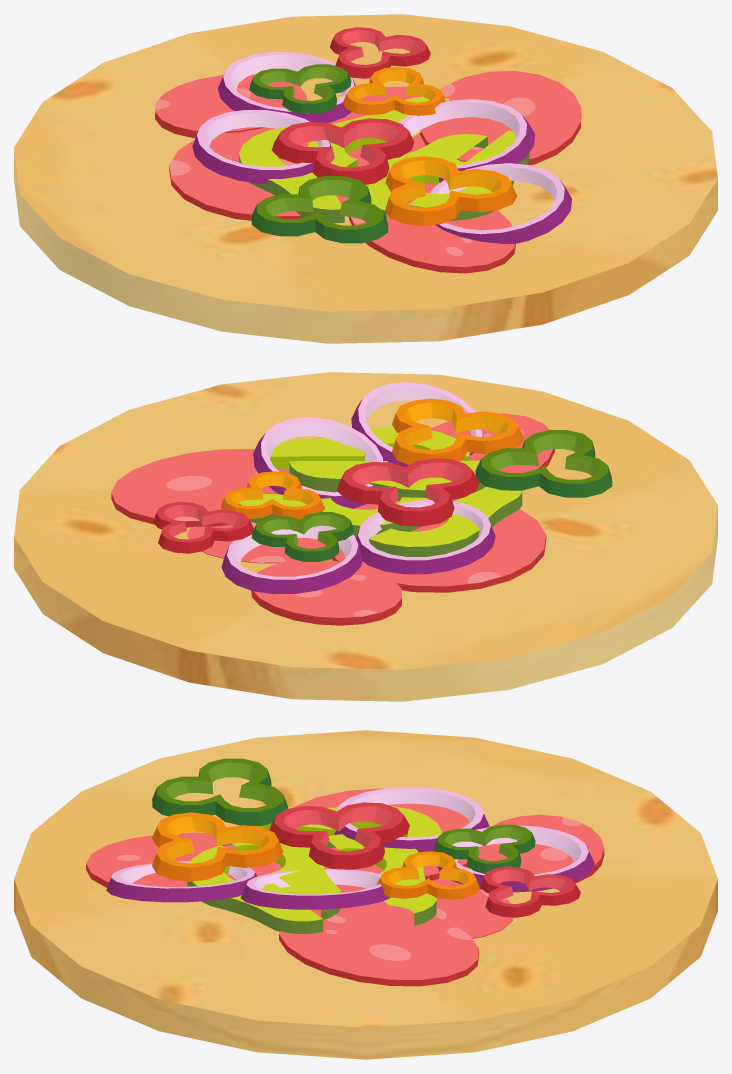
The model's file is taco_Carne_Cebolla_Aguacate_Pimiento.glb.
The picture shows the model from 3 angles, top to bottom: view 1: azimuth 30°, elevation 25°; view 2: azimuth 150°, elevation 25°; view 3: azimuth 270°, elevation 25°; orthographic projection.
Parts seen in each view (by area): view 1: tortilla.002, Ham_Slice_Ham_0.002, Pepper_Slice_Pepper_0, Pepper_Slice_Pepper_0.001, Avocado_Slice_Avocado_0, Onion_Slice_Onion_0, Onion_Slice_Onion_0.001; view 2: tortilla.002, Ham_Slice_Ham_0.002, Pepper_Slice_Pepper_0, Avocado_Slice_Avocado_0, Pepper_Slice_Pepper_0.001, Onion_Slice_Onion_0, Onion_Slice_Onion_0.001; view 3: tortilla.002, Ham_Slice_Ham_0.002, Pepper_Slice_Pepper_0, Pepper_Slice_Pepper_0.001, Avocado_Slice_Avocado_0, Onion_Slice_Onion_0.001, Onion_Slice_Onion_0.
Part boxes in pixels (x1=…): tortilla.002: x1=14, y1=14, x2=717, y2=343; Ham_Slice_Ham_0.002: x1=155, y1=71, x2=581, y2=273; Pepper_Slice_Pepper_0: x1=251, y1=118, x2=517, y2=243; Pepper_Slice_Pepper_0.001: x1=249, y1=27, x2=445, y2=115; Avocado_Slice_Avocado_0: x1=239, y1=97, x2=529, y2=223; Onion_Slice_Onion_0: x1=192, y1=52, x2=355, y2=184; Onion_Slice_Onion_0.001: x1=388, y1=99, x2=571, y2=244; tortilla.002: x1=14, y1=372, x2=717, y2=701; Ham_Slice_Ham_0.002: x1=111, y1=413, x2=554, y2=625; Pepper_Slice_Pepper_0: x1=337, y1=398, x2=612, y2=526; Avocado_Slice_Avocado_0: x1=238, y1=427, x2=522, y2=556; Pepper_Slice_Pepper_0.001: x1=153, y1=471, x2=353, y2=561; Onion_Slice_Onion_0: x1=221, y1=500, x2=495, y2=594; Onion_Slice_Onion_0.001: x1=253, y1=382, x2=483, y2=508; tortilla.002: x1=14, y1=730, x2=717, y2=1059; Ham_Slice_Ham_0.002: x1=86, y1=788, x2=604, y2=986; Pepper_Slice_Pepper_0: x1=152, y1=758, x2=409, y2=881; Pepper_Slice_Pepper_0.001: x1=377, y1=824, x2=580, y2=917; Avocado_Slice_Avocado_0: x1=187, y1=805, x2=442, y2=933; Onion_Slice_Onion_0.001: x1=106, y1=861, x2=390, y2=909; Onion_Slice_Onion_0: x1=334, y1=786, x2=594, y2=892.
Size of the model in its own units: 0.2118 by 0.0248 by 0.2118.
5 materials, 5 textured.
